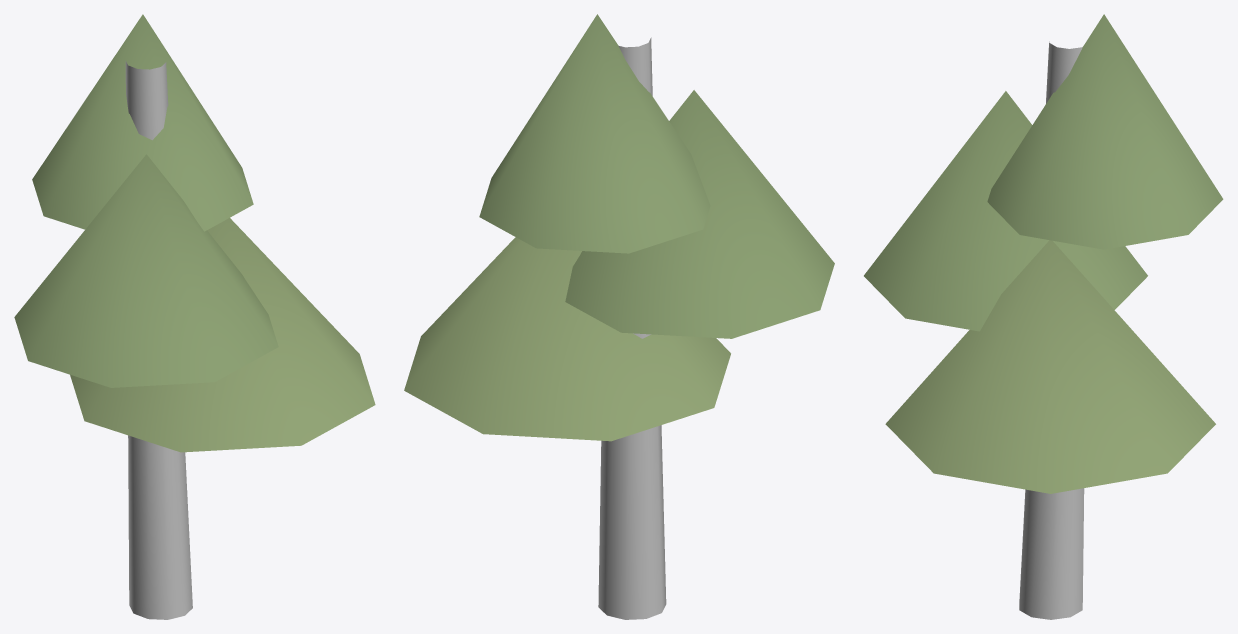
The model's file is pine_v2_far.gltf.
3 views of the same model, side by side, from view 1: azimuth 30°, elevation 25°; view 2: azimuth 150°, elevation 25°; view 3: azimuth 270°, elevation 25° (orthographic). The views are drawn at different scales.
Parts seen in each view (by area): view 1: foliage, bark; view 2: foliage, bark; view 3: foliage, bark.
Part boxes in pixels (box(x1,y1,x2,y2)): foliage: box(14, 14, 375, 452); bark: box(125, 61, 192, 619); foliage: box(404, 14, 834, 441); bark: box(598, 37, 666, 619); foliage: box(864, 14, 1223, 493); bark: box(1019, 41, 1084, 619).
Bounding box in the file's own units: 2.8 × 4.34 × 2.38.
